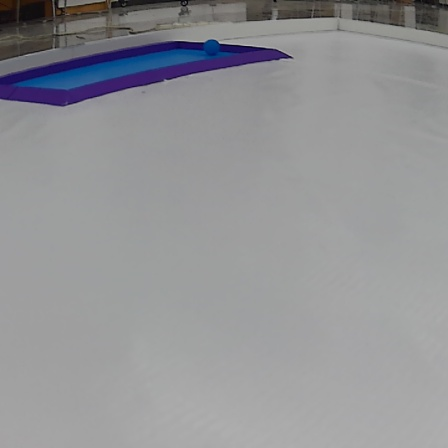blue: (203, 39, 221, 56)
blue_aim: (2, 40, 295, 106)
